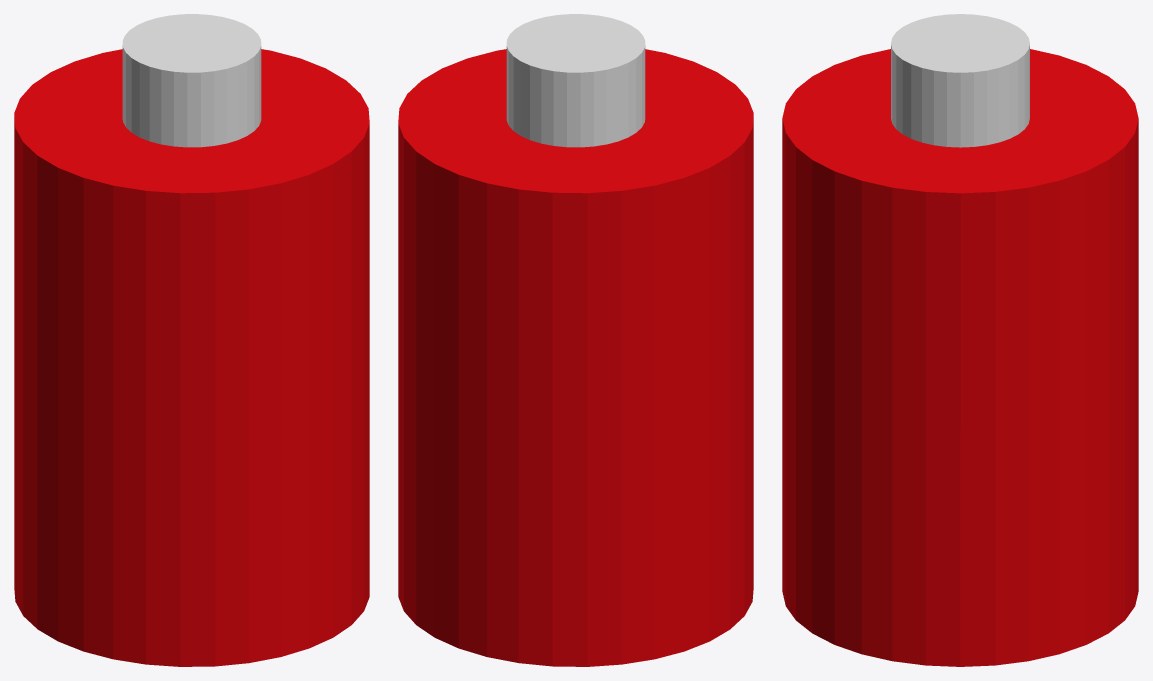
File: Medicine.fbx
3 renders of one model, left to right at view 1: azimuth 30°, elevation 25°; view 2: azimuth 150°, elevation 25°; view 3: azimuth 270°, elevation 25°, orthographic.
Parts seen in each view (by area): view 1: Cylinder, Cylinder.001; view 2: Cylinder, Cylinder.001; view 3: Cylinder, Cylinder.001.
Part boxes in pixels (bbox=[...]): Cylinder: bbox=[14, 49, 369, 666]; Cylinder.001: bbox=[122, 14, 261, 147]; Cylinder: bbox=[398, 49, 753, 666]; Cylinder.001: bbox=[506, 14, 645, 147]; Cylinder: bbox=[782, 49, 1138, 666]; Cylinder.001: bbox=[891, 14, 1029, 147].
Bounding box in the file's own units: 30.45 × 51.73 × 30.45.
